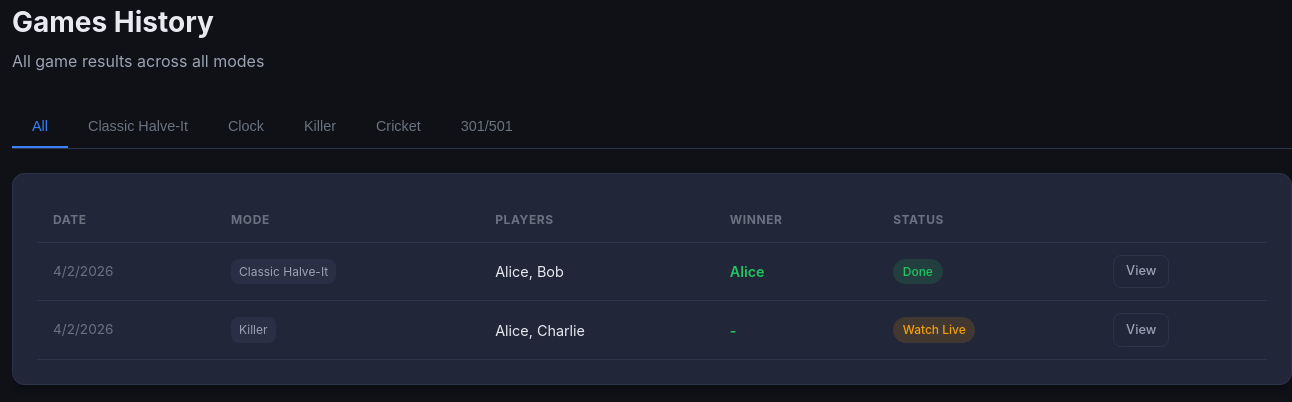
it: GamesPage › filters games by mode
Click "Killer" tab
Click the button "Killer".
click(320, 127)  # box [284,106,356,148]
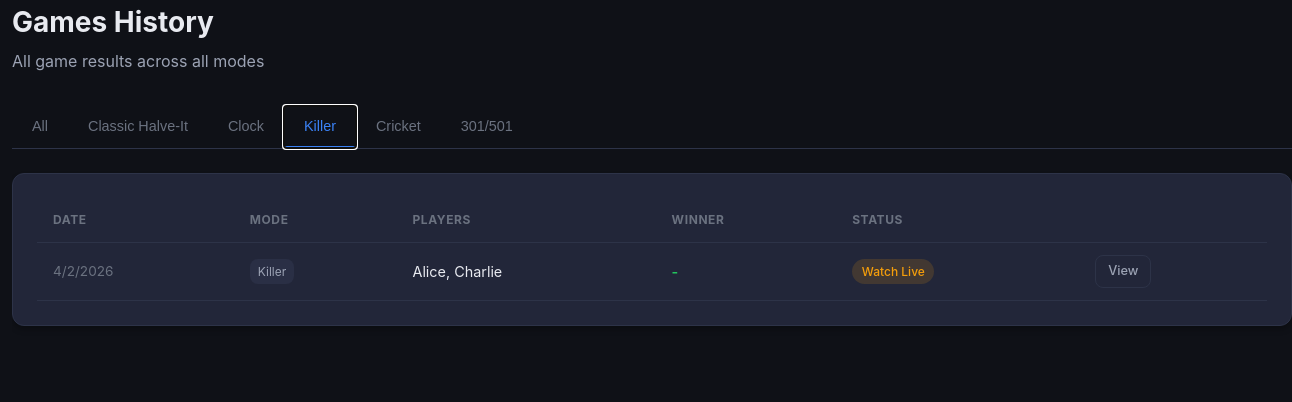
expect the text with class "mode-tag" reads "Killer": met, box [258,264,286,279]
expect the number of elements with class "mode-tag" is 1: met, box [250,259,294,284]
